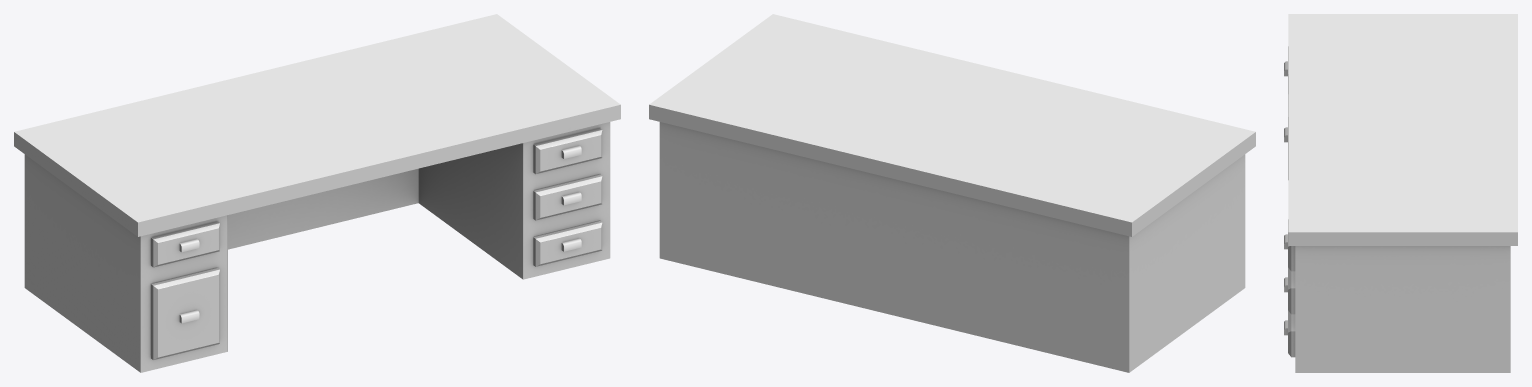
Rendered from desk.fbx.
3 views of the same model, side by side, from view 1: azimuth 30°, elevation 25°; view 2: azimuth 150°, elevation 25°; view 3: azimuth 270°, elevation 25° (orthographic). The views are drawn at different scales.
Visible parts, largest first — view 1: desk; view 2: desk; view 3: desk.
Boxes of the visible parts, x1,y1,x2,y2 form: desk: [14, 14, 620, 372]; desk: [649, 14, 1255, 372]; desk: [1284, 14, 1517, 372].
Bounding box in the file's own units: 720 × 221 × 326.
